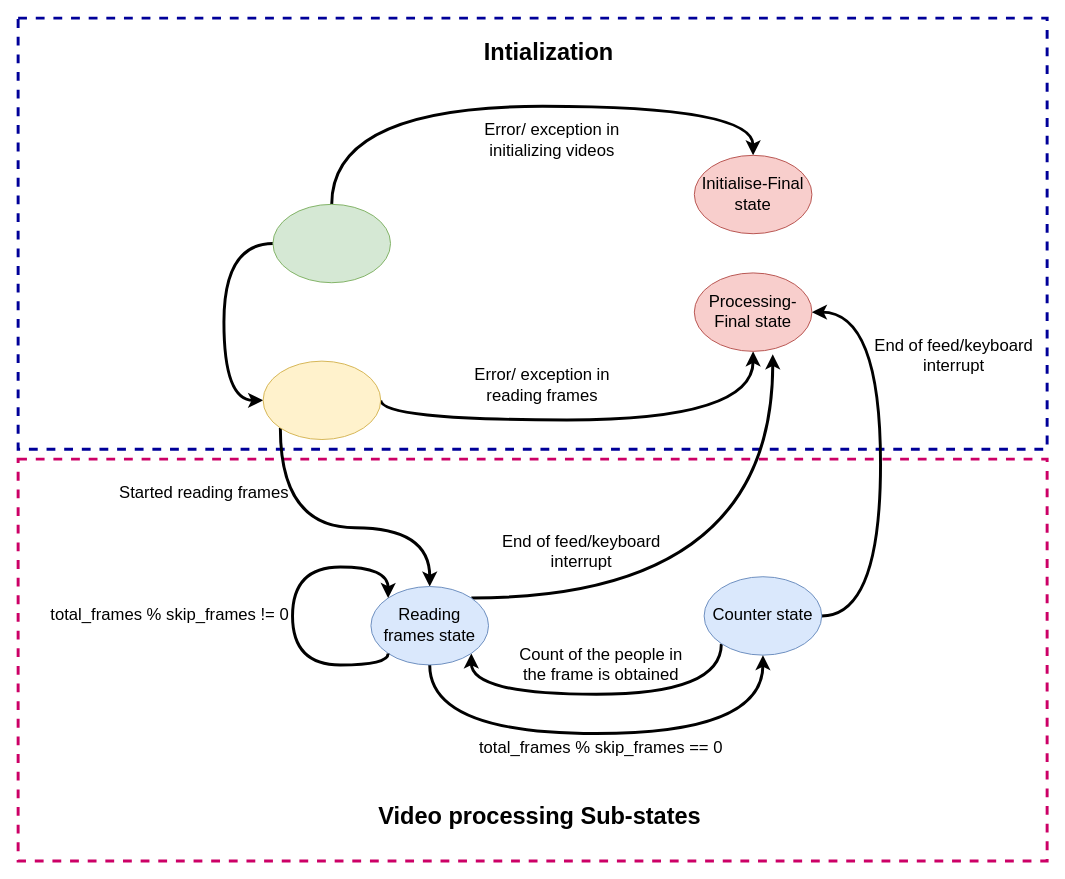
The diagram is 1065 pixels wide and 879 high, and some of its shapes have lost their labels. Each missing label, with the centre of its shape:
"Initialise video state" belongs at pixel 331 243.
"Video Processing state" belongs at pixel 321 400.
